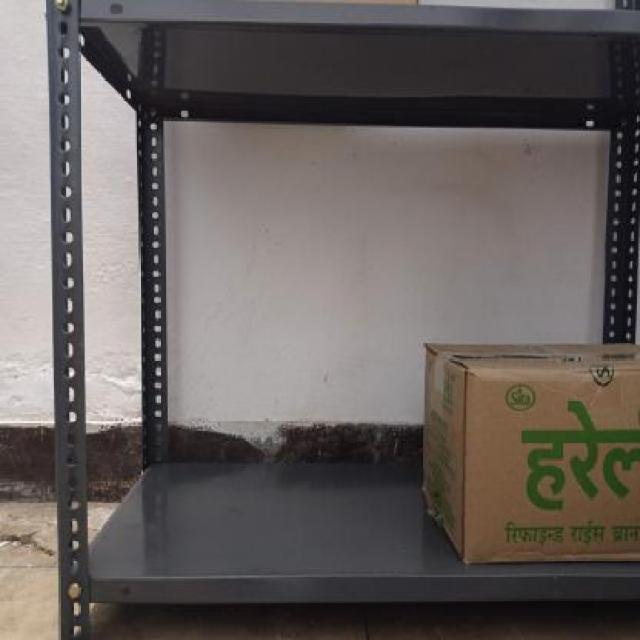box: (466, 363, 640, 560)
